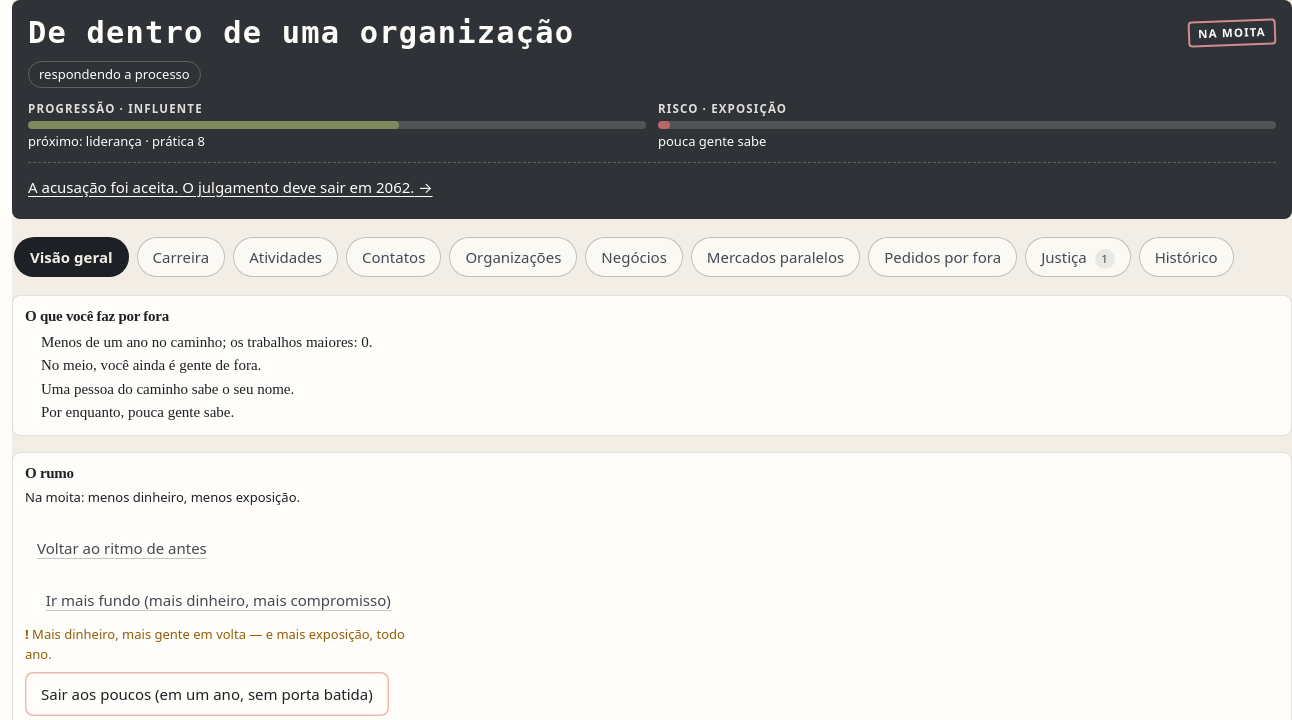
Scenario: REWORK 12.3 · telas › Organizações: as relações entre elas e o que o posto permite
This screenshot has width=1292, height=720.
Click the tab "Organizações" at (513, 257), box 449,237 -> 577,277
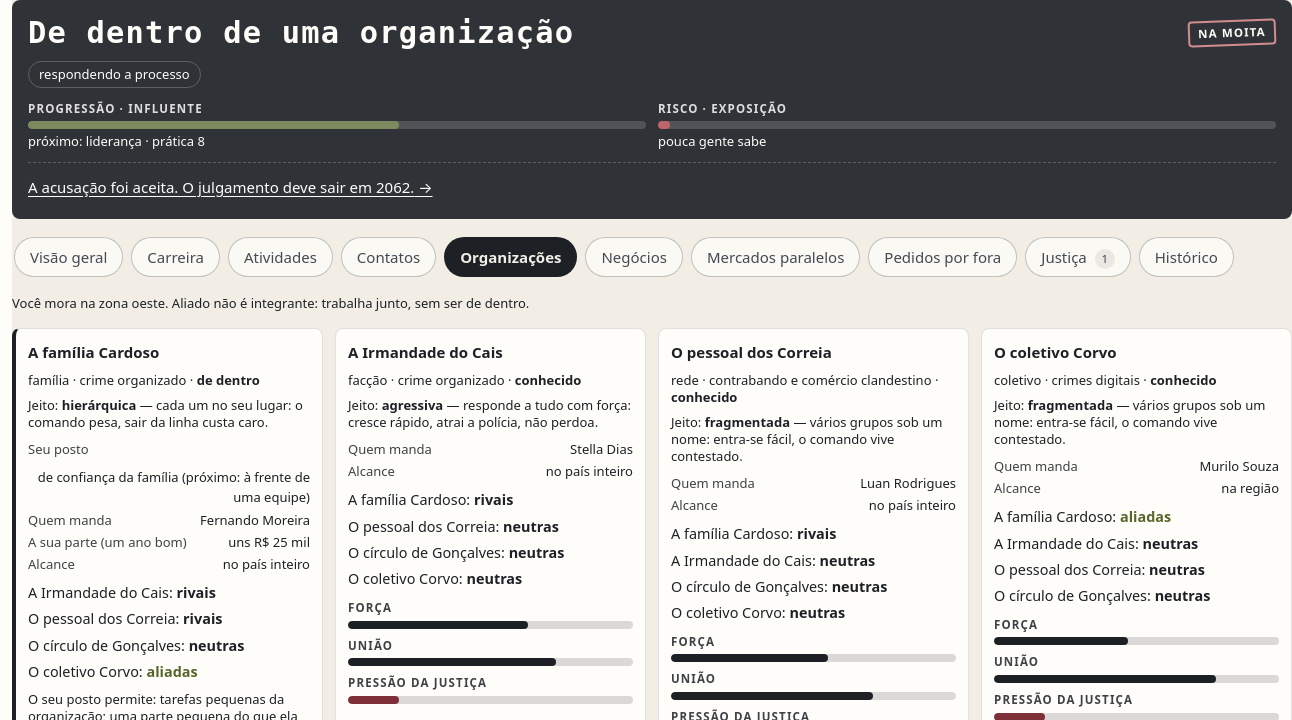
Now the text "O seu posto permite:" is shown, box 28,690 -> 160,708
Now the list item with class "svivo-relacoes__item" showing "A Irmandade do Cais: rivais" is shown, box 28,582 -> 216,604
